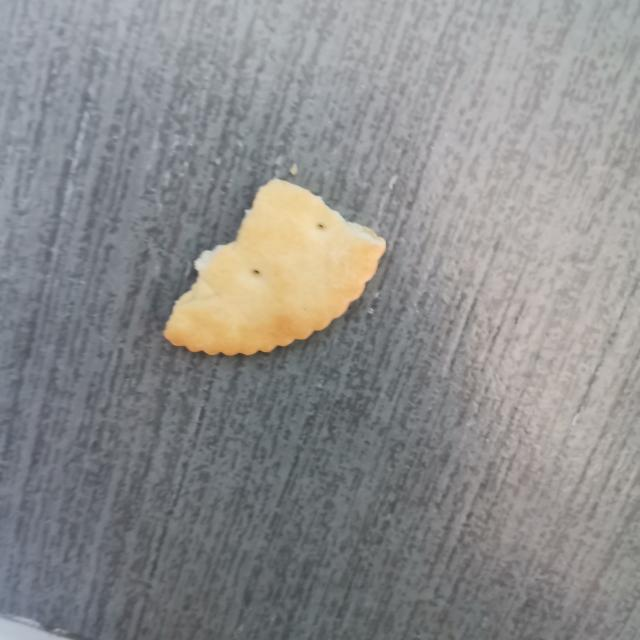Broken: (162, 176, 386, 357)
